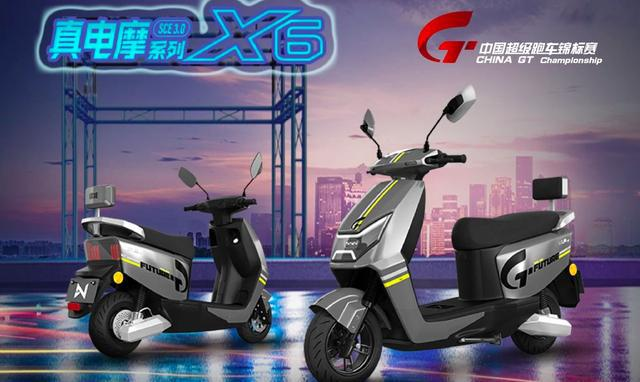电动车: (307, 81, 594, 382), (53, 153, 286, 360)
